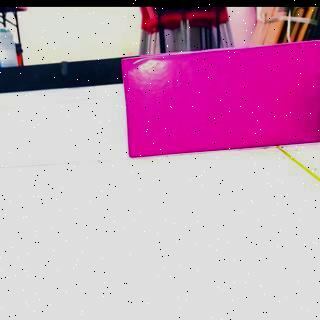xparking: (126, 58, 320, 154)
